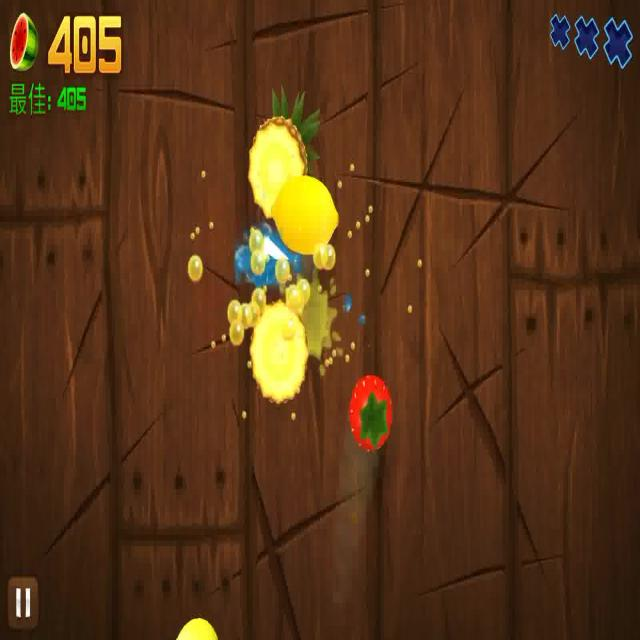fruit: (250, 88, 317, 214), (247, 305, 310, 403), (270, 177, 339, 257), (346, 370, 394, 453), (173, 612, 217, 640)
